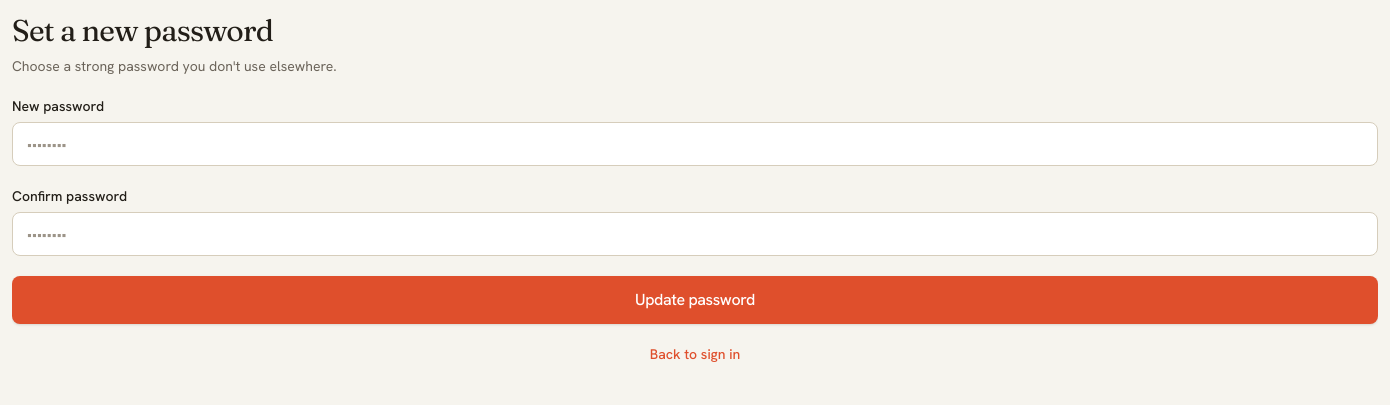
Scenario: ResetPasswordForm › flags mismatched passwords
This screenshot has width=1390, height=405.
Type "secret123" into the password field labelled "New password" at [695, 144], box top-left (12, 122), bottom-right (1378, 166)
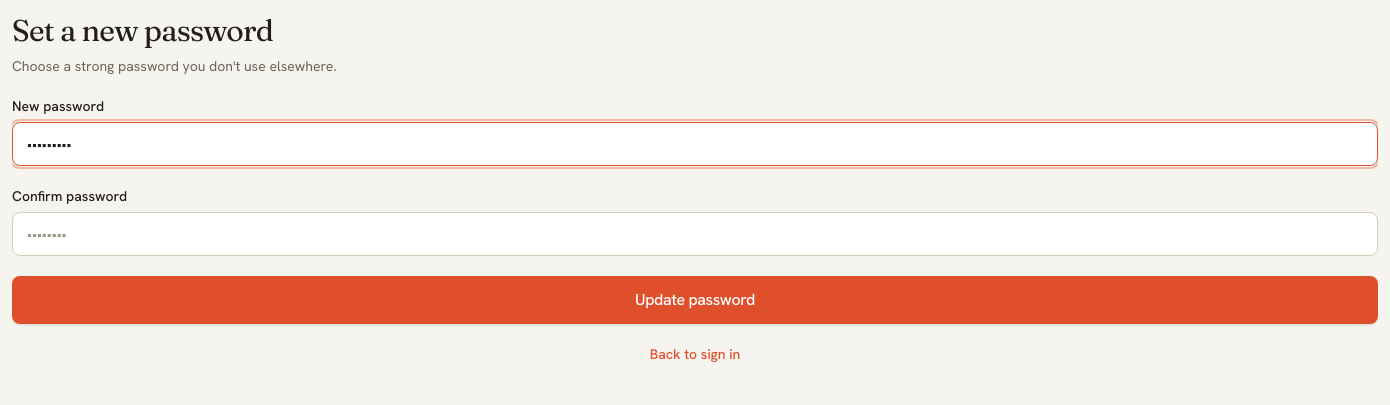
Type "secret124" into the password field labelled "Confirm password" at [695, 234], box top-left (12, 212), bottom-right (1378, 256)
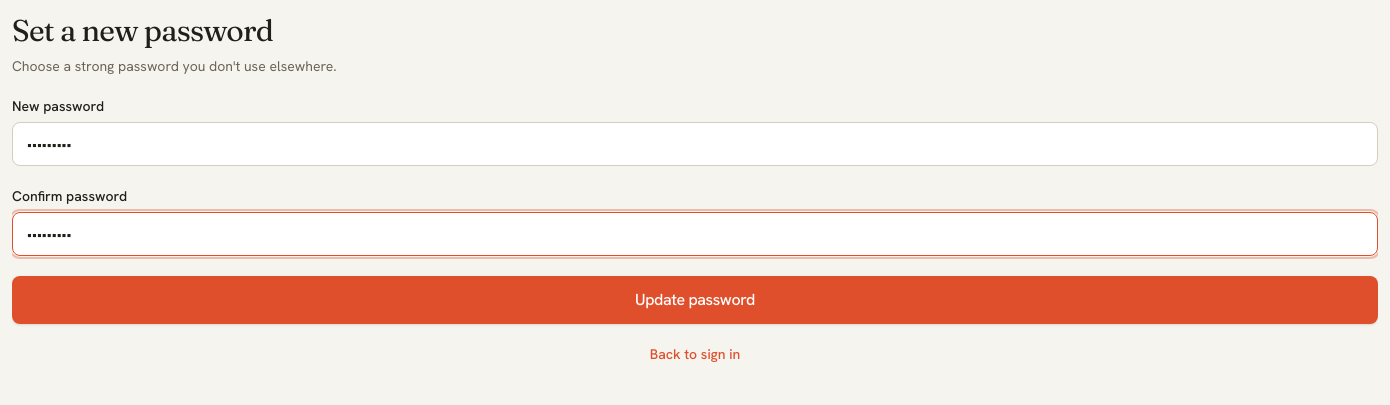
Click the button "Update password" at [695, 300], box top-left (12, 276), bottom-right (1378, 324)
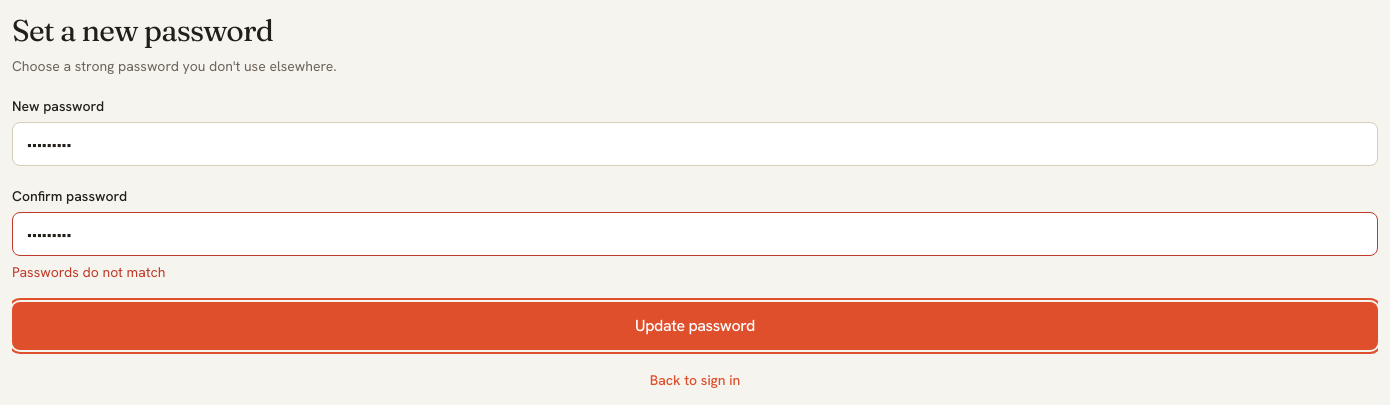
expect the text "Passwords do not match" is shown: met, box top-left (12, 262), bottom-right (165, 280)
